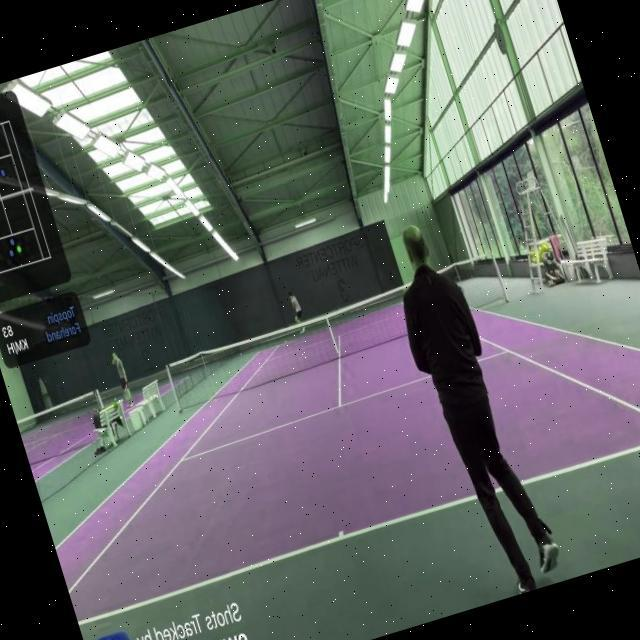court: (15, 231, 640, 625)
net: (158, 248, 512, 412)
player: (373, 210, 568, 604)
